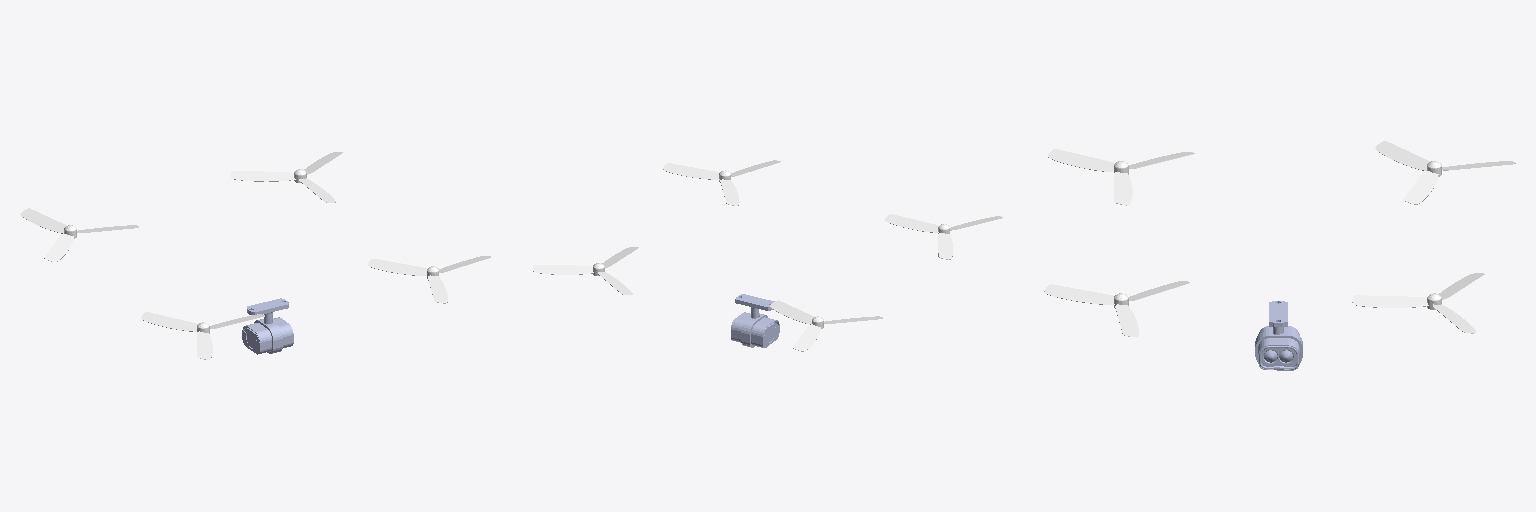
robot.urdf — Drone_Full:
<?xml version="1.0" encoding="utf-8"?>
<!--
  ANSA Drone URDF — Optimized for Wind Perturbation & Gazebo Harmonic Dynamics
  Fixes applied:
  1. Center of Mass aligned with physical drone frame center.
  2. Symmetrical propeller joint origin coordinates.
  3. Increased MulticopterVelocityControl PID gains and acceleration limits for active disturbance rejection.
-->
<robot name="Drone_Full">

  <!-- MAIN BODY LINK -->
  <link name="Drone_link">
    <inertial>
      <origin xyz="0.0 0.0 0.0" rpy="0 0 0" />
      <mass value="0.66624" />
      <inertia
        ixx="0.0016209" ixy="0.0" ixz="0.0"
        iyy="0.0022899" iyz="0.0"
        izz="0.003725" />
    </inertial>
    <visual>
      <origin xyz="0 0 0" rpy="0 0 0" />
      <geometry>
        <mesh filename="package://ansa_digital_twin/meshes/Drone_link.STL" />
      </geometry>
      <material name="">
        <color rgba="0.64706 0.61961 0.6 1" />
      </material>
    </visual>
    <collision>
      <origin xyz="0 0 0" rpy="0 0 0" />
      <geometry>
        <mesh filename="package://ansa_digital_twin/meshes/Drone_link.STL" />
      </geometry>
    </collision>
  </link>

  <!-- LIDAR LINK -->
  <link name="lidar_link">
    <inertial>
      <origin xyz="0.0 0.0 -0.02" rpy="0 0 0" />
      <mass value="0.025" />
      <inertia
        ixx="3.69e-06" ixy="0" ixz="0"
        iyy="4.00e-06" iyz="0"
        izz="4.05e-06" />
    </inertial>
    <visual>
      <origin xyz="0 0 0" rpy="0 0 0" />
      <geometry>
        <mesh filename="package://ansa_digital_twin/meshes/lidar_link.STL" />
      </geometry>
      <material name="">
        <color rgba="0.792 0.819 0.933 1" />
      </material>
    </visual>
    <collision>
      <origin xyz="0 0 -0.02" rpy="0 0 0" />
      <geometry>
        <box size="0.05 0.05 0.06" />
      </geometry>
    </collision>
  </link>

  <joint name="lidarlink" type="fixed">
    <origin xyz="0.0169 0.0005 -0.0075" rpy="0 0 0" />
    <parent link="Drone_link" />
    <child link="lidar_link" />
  </joint>

  <!-- JETSON ENCLOSURE -->
  <link name="jetson_enclosure">
    <inertial>
      <origin xyz="0.0 0.0 -0.02" rpy="0 0 0" />
      <mass value="0.254" />
      <inertia
        ixx="0.00047" ixy="0" ixz="0"
        iyy="0.00032" iyz="0"
        izz="0.00068" />
    </inertial>
    <visual>
      <origin xyz="0 0 0" rpy="0 0 0" />
      <geometry>
        <mesh filename="package://ansa_digital_twin/meshes/jetson_enclosure.STL" />
      </geometry>
      <material name="">
        <color rgba="0.792 0.819 0.933 1" />
      </material>
    </visual>
    <collision>
      <origin xyz="0 0 -0.02" rpy="0 0 0" />
      <geometry>
        <box size="0.08 0.08 0.05" />
      </geometry>
    </collision>
  </link>

  <joint name="jetsonenclosure" type="fixed">
    <origin xyz="-0.0022 0.0 0.1" rpy="0 0 0" />
    <parent link="Drone_link" />
    <child link="jetson_enclosure" />
  </joint>

  <!-- PROPELLERS (Symmetric Positions: x=±0.121, y=±0.121) -->
  
  <!-- Left Front Propeller (CCW) -->
  <link name="leftfront_prop">
    <inertial>
      <origin xyz="0 0 -0.005" rpy="0 0 0" />
      <mass value="0.0016" />
      <inertia ixx="5.56e-07" ixy="0" ixz="0" iyy="5.56e-07" iyz="0" izz="1.09e-06" />
    </inertial>
    <visual>
      <origin xyz="0 0 0" rpy="0 0 0" />
      <geometry>
        <mesh filename="package://ansa_digital_twin/meshes/leftfront_prop.STL" />
      </geometry>
      <material name=""><color rgba="1 1 1 1" /></material>
    </visual>
    <collision>
      <origin xyz="0 0 -0.005" rpy="0 0 0" />
      <geometry><cylinder radius="0.09" length="0.01" /></geometry>
    </collision>
  </link>
  <joint name="leftfrontprop" type="continuous">
    <origin xyz="0.121 0.121 0.05876" rpy="0 0 0" />
    <parent link="Drone_link" />
    <child link="leftfront_prop" />
    <axis xyz="0 0 1" />
    <limit effort="1" velocity="1000" />
    <dynamics damping="0.001" friction="0.01" />
  </joint>

  <!-- Right Front Propeller (CW) -->
  <link name="rightfront_prop">
    <inertial>
      <origin xyz="0 0 -0.005" rpy="0 0 0" />
      <mass value="0.0016" />
      <inertia ixx="5.56e-07" ixy="0" ixz="0" iyy="5.56e-07" iyz="0" izz="1.09e-06" />
    </inertial>
    <visual>
      <origin xyz="0 0 0" rpy="0 0 0" />
      <geometry>
        <mesh filename="package://ansa_digital_twin/meshes/rightfront_prop.STL" />
      </geometry>
      <material name=""><color rgba="1 1 1 1" /></material>
    </visual>
    <collision>
      <origin xyz="0 0 -0.005" rpy="0 0 0" />
      <geometry><cylinder radius="0.09" length="0.01" /></geometry>
    </collision>
  </link>
  <joint name="rightfrontprop" type="continuous">
    <origin xyz="0.121 -0.121 0.05876" rpy="0 0 0" />
    <parent link="Drone_link" />
    <child link="rightfront_prop" />
    <axis xyz="0 0 1" />
    <limit effort="1" velocity="1000" />
    <dynamics damping="0.001" friction="0.01" />
  </joint>

  <!-- Left Back Propeller (CW) -->
  <link name="leftback_prop">
    <inertial>
      <origin xyz="0 0 -0.005" rpy="0 0 0" />
      <mass value="0.0016" />
      <inertia ixx="5.56e-07" ixy="0" ixz="0" iyy="5.56e-07" iyz="0" izz="1.09e-06" />
    </inertial>
    <visual>
      <origin xyz="0 0 0" rpy="0 0 0" />
      <geometry>
        <mesh filename="package://ansa_digital_twin/meshes/leftback_prop.STL" />
      </geometry>
      <material name=""><color rgba="1 1 1 1" /></material>
    </visual>
    <collision>
      <origin xyz="0 0 -0.005" rpy="0 0 0" />
      <geometry><cylinder radius="0.09" length="0.01" /></geometry>
    </collision>
  </link>
  <joint name="leftbackprop" type="continuous">
    <origin xyz="-0.121 0.121 0.05876" rpy="0 0 0" />
    <parent link="Drone_link" />
    <child link="leftback_prop" />
    <axis xyz="0 0 1" />
    <limit effort="1" velocity="1000" />
    <dynamics damping="0.001" friction="0.01" />
  </joint>

  <!-- Right Back Propeller (CCW) -->
  <link name="rightback_prop">
    <inertial>
      <origin xyz="0 0 -0.005" rpy="0 0 0" />
      <mass value="0.0016" />
      <inertia ixx="5.56e-07" ixy="0" ixz="0" iyy="5.56e-07" iyz="0" izz="1.09e-06" />
    </inertial>
    <visual>
      <origin xyz="0 0 0" rpy="0 0 0" />
      <geometry>
        <mesh filename="package://ansa_digital_twin/meshes/rightback_prop.STL" />
      </geometry>
      <material name=""><color rgba="1 1 1 1" /></material>
    </visual>
    <collision>
      <origin xyz="0 0 -0.005" rpy="0 0 0" />
      <geometry><cylinder radius="0.09" length="0.01" /></geometry>
    </collision>
  </link>
  <joint name="rightbackprop" type="continuous">
    <origin xyz="-0.121 -0.121 0.05876" rpy="0 0 0" />
    <parent link="Drone_link" />
    <child link="rightback_prop" />
    <axis xyz="0 0 1" />
    <limit effort="1" velocity="1000" />
    <dynamics damping="0.001" friction="0.01" />
  </joint>

  <!-- ============ GAZEBO PLUGINS ============ -->

  <!-- IMU Sensor -->
  <gazebo>
    <plugin filename="gz-sim-imu-system" name="gz::sim::systems::Imu" />
  </gazebo>
  <gazebo reference="Drone_link">
    <sensor name="imu_sensor" type="imu">
      <always_on>1</always_on>
      <update_rate>100</update_rate>
      <topic>imu/data</topic>
    </sensor>
  </gazebo>

  <!-- Motor Models -->
  <gazebo>
    <plugin filename="gz-sim-multicopter-motor-model-system" name="gz::sim::systems::MulticopterMotorModel">
      <robotNamespace>ansa_drone</robotNamespace>
      <jointName>leftfrontprop</jointName>
      <linkName>leftfront_prop</linkName>
      <turningDirection>ccw</turningDirection>
      <timeConstantUp>0.0125</timeConstantUp>
      <timeConstantDown>0.025</timeConstantDown>
      <maxRotVelocity>1200</maxRotVelocity>
      <motorConstant>8.54858e-06</motorConstant>
      <momentConstant>0.016</momentConstant>
      <commandSubTopic>command/motor_speed</commandSubTopic>
      <motorNumber>0</motorNumber>
      <rotorDragCoefficient>8.06428e-05</rotorDragCoefficient>
      <rollingMomentCoefficient>1e-06</rollingMomentCoefficient>
      <rotorVelocitySlowdownSim>10</rotorVelocitySlowdownSim>
      <motorType>velocity</motorType>
    </plugin>
  </gazebo>

  <gazebo>
    <plugin filename="gz-sim-multicopter-motor-model-system" name="gz::sim::systems::MulticopterMotorModel">
      <robotNamespace>ansa_drone</robotNamespace>
      <jointName>rightfrontprop</jointName>
      <linkName>rightfront_prop</linkName>
      <turningDirection>cw</turningDirection>
      <timeConstantUp>0.0125</timeConstantUp>
      <timeConstantDown>0.025</timeConstantDown>
      <maxRotVelocity>1200</maxRotVelocity>
      <motorConstant>8.54858e-06</motorConstant>
      <momentConstant>0.016</momentConstant>
      <commandSubTopic>command/motor_speed</commandSubTopic>
      <motorNumber>1</motorNumber>
      <rotorDragCoefficient>8.06428e-05</rotorDragCoefficient>
      <rollingMomentCoefficient>1e-06</rollingMomentCoefficient>
      <rotorVelocitySlowdownSim>10</rotorVelocitySlowdownSim>
      <motorType>velocity</motorType>
    </plugin>
  </gazebo>

  <gazebo>
    <plugin filename="gz-sim-multicopter-motor-model-system" name="gz::sim::systems::MulticopterMotorModel">
      <robotNamespace>ansa_drone</robotNamespace>
      <jointName>leftbackprop</jointName>
      <linkName>leftback_prop</linkName>
      <turningDirection>cw</turningDirection>
      <timeConstantUp>0.0125</timeConstantUp>
      <timeConstantDown>0.025</timeConstantDown>
      <maxRotVelocity>1200</maxRotVelocity>
      <motorConstant>8.54858e-06</motorConstant>
      <momentConstant>0.016</momentConstant>
      <commandSubTopic>command/motor_speed</commandSubTopic>
      <motorNumber>2</motorNumber>
      <rotorDragCoefficient>8.06428e-05</rotorDragCoefficient>
      <rollingMomentCoefficient>1e-06</rollingMomentCoefficient>
      <rotorVelocitySlowdownSim>10</rotorVelocitySlowdownSim>
      <motorType>velocity</motorType>
    </plugin>
  </gazebo>

  <gazebo>
    <plugin filename="gz-sim-multicopter-motor-model-system" name="gz::sim::systems::MulticopterMotorModel">
      <robotNamespace>ansa_drone</robotNamespace>
      <jointName>rightbackprop</jointName>
      <linkName>rightback_prop</linkName>
      <turningDirection>ccw</turningDirection>
      <timeConstantUp>0.0125</timeConstantUp>
      <timeConstantDown>0.025</timeConstantDown>
      <maxRotVelocity>1200</maxRotVelocity>
      <motorConstant>8.54858e-06</motorConstant>
      <momentConstant>0.016</momentConstant>
      <commandSubTopic>command/motor_speed</commandSubTopic>
      <motorNumber>3</motorNumber>
      <rotorDragCoefficient>8.06428e-05</rotorDragCoefficient>
      <rollingMomentCoefficient>1e-06</rollingMomentCoefficient>
      <rotorVelocitySlowdownSim>10</rotorVelocitySlowdownSim>
      <motorType>velocity</motorType>
    </plugin>
  </gazebo>

  <!-- High-gain Multicopter Velocity Controller -->
  <gazebo>
    <plugin filename="gz-sim-multicopter-control-system" name="gz::sim::systems::MulticopterVelocityControl">
      <robotNamespace>ansa_drone</robotNamespace>
      <commandSubTopic>cmd_vel</commandSubTopic>
      <enableSubTopic>enable</enableSubTopic>
      <comLinkName>Drone_link</comLinkName>
      <velocityGain>5.0 5.0 6.0</velocityGain>
      <attitudeGain>8.0 8.0 3.0</attitudeGain>
      <angularRateGain>1.5 1.5 0.8</angularRateGain>
      <maximumLinearAcceleration>8.0 8.0 5.0</maximumLinearAcceleration>
      <rotorConfiguration>
        <rotor>
          <jointName>leftfrontprop</jointName>
          <forceConstant>8.54858e-06</forceConstant>
          <momentConstant>0.016</momentConstant>
          <direction>1</direction>
        </rotor>
        <rotor>
          <jointName>rightfrontprop</jointName>
          <forceConstant>8.54858e-06</forceConstant>
          <momentConstant>0.016</momentConstant>
          <direction>-1</direction>
        </rotor>
        <rotor>
          <jointName>leftbackprop</jointName>
          <forceConstant>8.54858e-06</forceConstant>
          <momentConstant>0.016</momentConstant>
          <direction>-1</direction>
        </rotor>
        <rotor>
          <jointName>rightbackprop</jointName>
          <forceConstant>8.54858e-06</forceConstant>
          <momentConstant>0.016</momentConstant>
          <direction>1</direction>
        </rotor>
      </rotorConfiguration>
    </plugin>
  </gazebo>

  <!-- Odometry Publisher -->
  <gazebo>
    <plugin filename="gz-sim-odometry-publisher-system" name="gz::sim::systems::OdometryPublisher">
      <odom_frame>ansa_drone/odom</odom_frame>
      <robot_base_frame>Drone_link</robot_base_frame>
      <odom_topic>/model/ansa_drone/odometry</odom_topic>
      <odom_publish_frequency>30</odom_publish_frequency>
      <dimensions>3</dimensions>
    </plugin>
  </gazebo>

  <!-- Battery Plugin -->
  <gazebo>
    <plugin filename="gz-sim-linearbatteryplugin-system" name="gz::sim::systems::LinearBatteryPlugin">
      <battery_name>ansa_drone_battery</battery_name>
      <voltage>12.6</voltage>
      <open_circuit_voltage_constant_coef>12.694</open_circuit_voltage_constant_coef>
      <open_circuit_voltage_linear_coef>-3.1424</open_circuit_voltage_linear_coef>
      <initial_charge>3.0</initial_charge>
      <capacity>3.0</capacity>
      <resistance>0.061523</resistance>
      <smooth_current_tau>1.9499</smooth_current_tau>
      <power_load>6.6</power_load>
      <topic>/battery_state</topic>
    </plugin>
  </gazebo>

</robot>

--- What the picture shows (computed from the rendered views, not written in the file) ---
The picture shows the robot from 3 angles, left to right: view 1: azimuth 30°, elevation 25°; view 2: azimuth 150°, elevation 25°; view 3: azimuth 270°, elevation 25°; orthographic projection.
Model Drone_Full with 7 links and 6 joints (4 continuous, 2 fixed), rooted at Drone_link, posed every joint at zero.
Links seen in each view (by area): view 1: lidar_link, leftfront_prop, leftback_prop, rightback_prop, rightfront_prop; view 2: lidar_link, rightfront_prop, rightback_prop, leftback_prop, leftfront_prop; view 3: lidar_link, leftfront_prop, rightfront_prop, leftback_prop, rightback_prop.
Boxes of the visible links, x1,y1,x2,y2 form: lidar_link: [242, 298, 293, 354]; leftfront_prop: [231, 152, 342, 202]; leftback_prop: [20, 208, 138, 261]; rightback_prop: [141, 312, 264, 359]; rightfront_prop: [368, 256, 490, 303]; lidar_link: [731, 294, 779, 347]; rightfront_prop: [663, 160, 780, 205]; rightback_prop: [885, 214, 1002, 259]; leftback_prop: [770, 300, 882, 351]; leftfront_prop: [532, 247, 638, 294]; lidar_link: [1255, 301, 1302, 370]; leftfront_prop: [1352, 273, 1484, 333]; rightfront_prop: [1044, 281, 1189, 336]; leftback_prop: [1375, 141, 1515, 204]; rightback_prop: [1048, 149, 1194, 205].
Bounding box of the posed robot: 0.3551 × 0.364 × 0.1076 m (x, y, z).
Meshes: 7 distinct files referenced, 5 mesh visuals loaded (5 binary STL); not drawn: 2 (reference not matched to a file when rendering).
